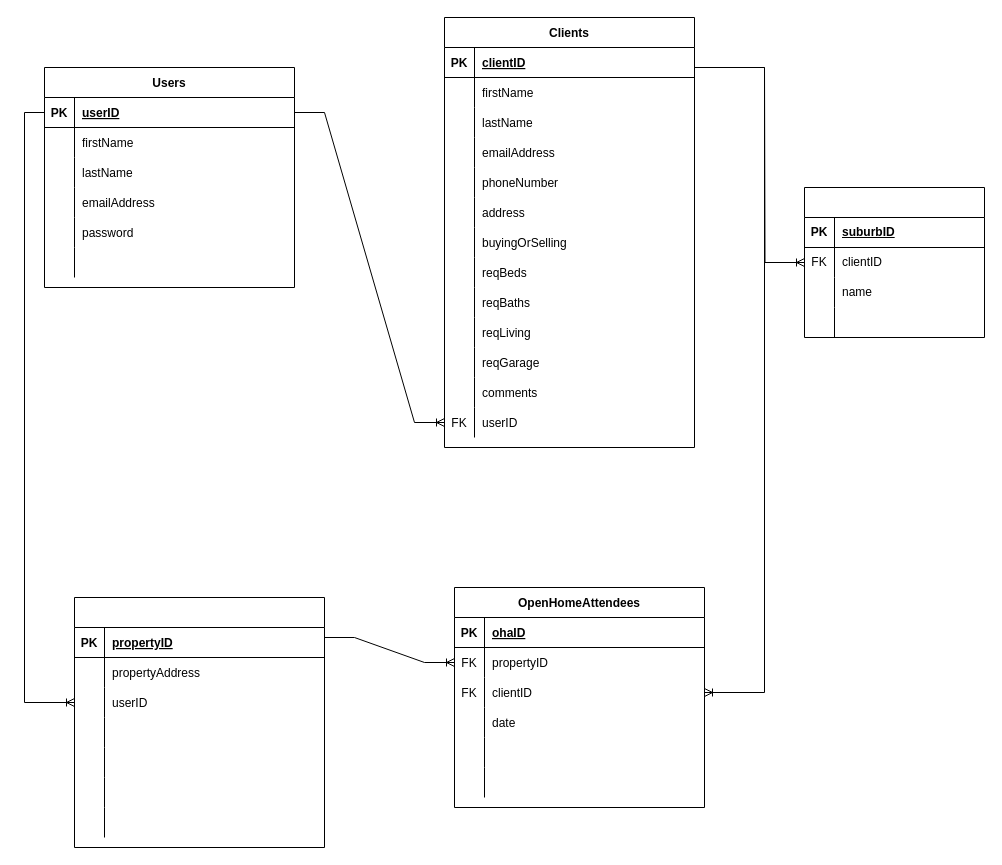
Some shapes in this 1002 by 865 pixel diagram are drawn without their labels. Each missing label, with the box of its shape:
Properties: (74, 596, 324, 848)
Suburbs: (804, 186, 984, 338)
